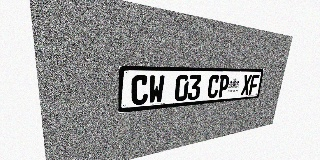0: (174, 75, 189, 102)
3: (187, 75, 202, 100)
C: (131, 75, 149, 106), (207, 75, 220, 99)
F: (248, 75, 259, 95)
P: (217, 75, 230, 98)
W: (148, 75, 165, 104)
X: (240, 75, 252, 95)
